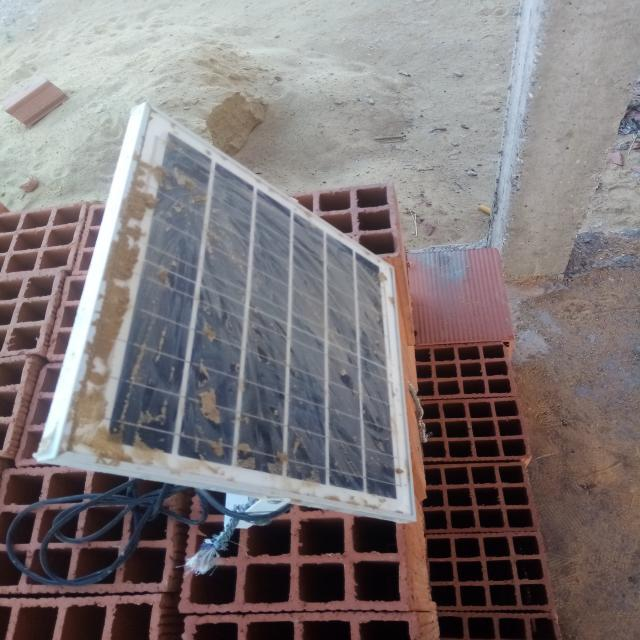faulty: (57, 105, 414, 520)
